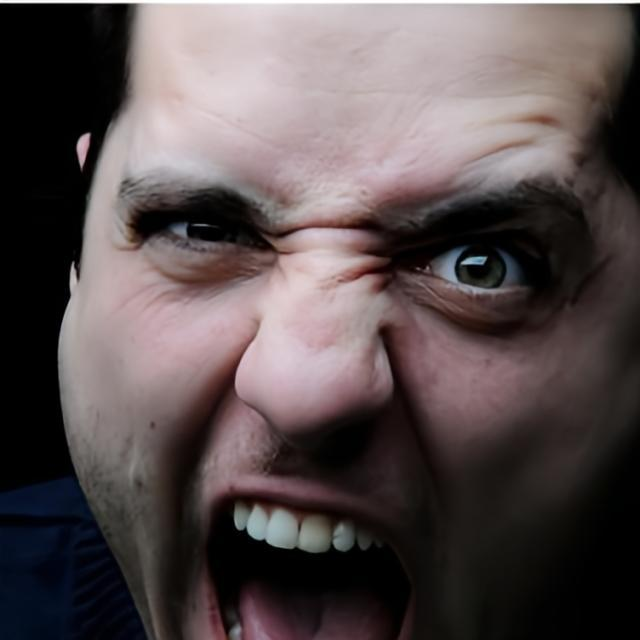anger: (54, 7, 638, 640)
